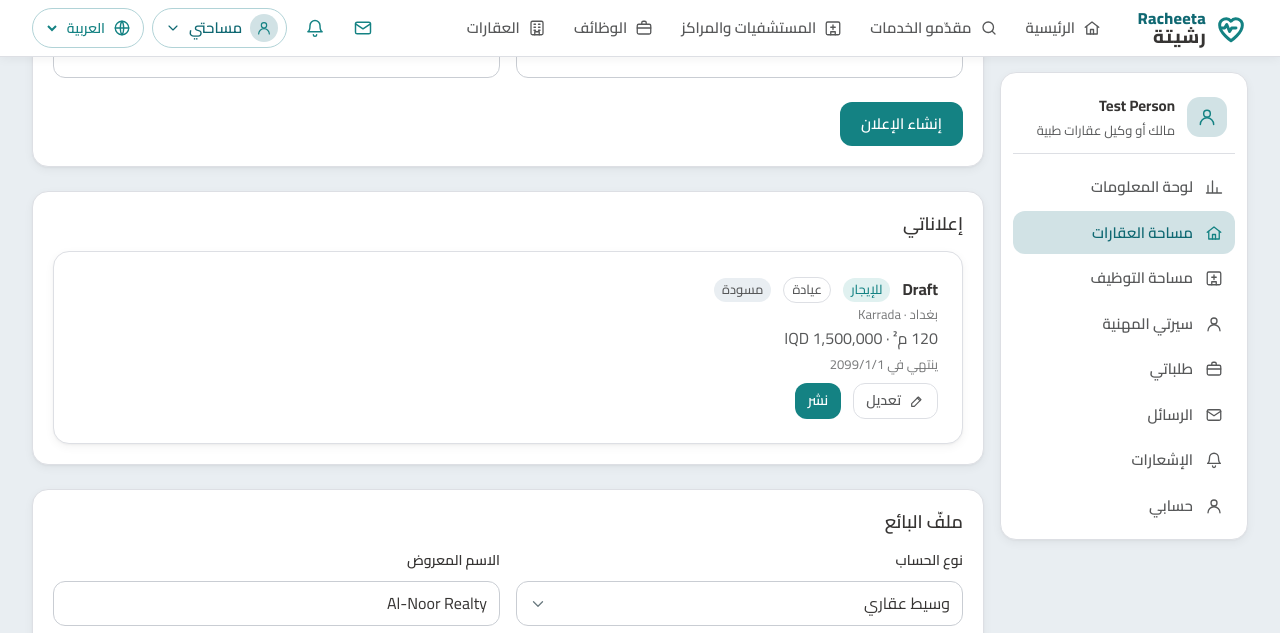
Test case: Seller workspace › publication › shows every typed reason when the backend gate refuses (state changed after load)
The image size is (1280, 633).
(page scrolled)
Click the button "نشر" at (818, 401), box [795,383,841,419]
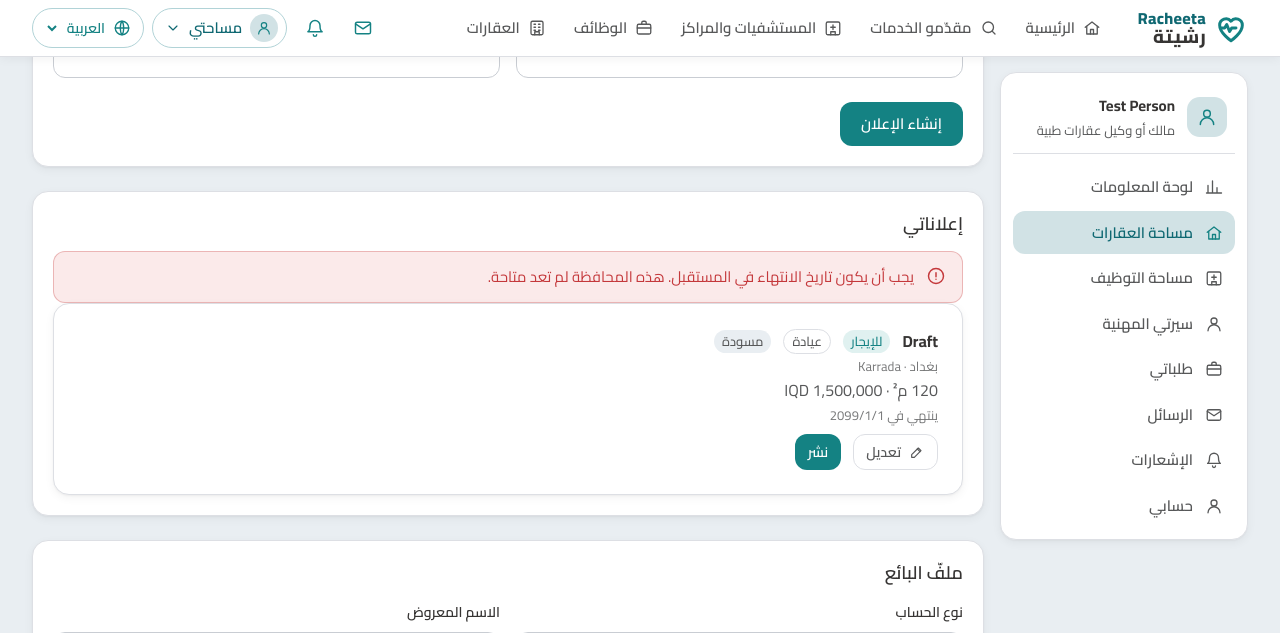
Expected: the button "نشر" is shown, [795,434,841,470]
Expected: the message reads "يجب أن يكون تاريخ الانتهاء في المستقبل. هذه المحافظة لم تعد متاحة.", [488,262,914,291]
